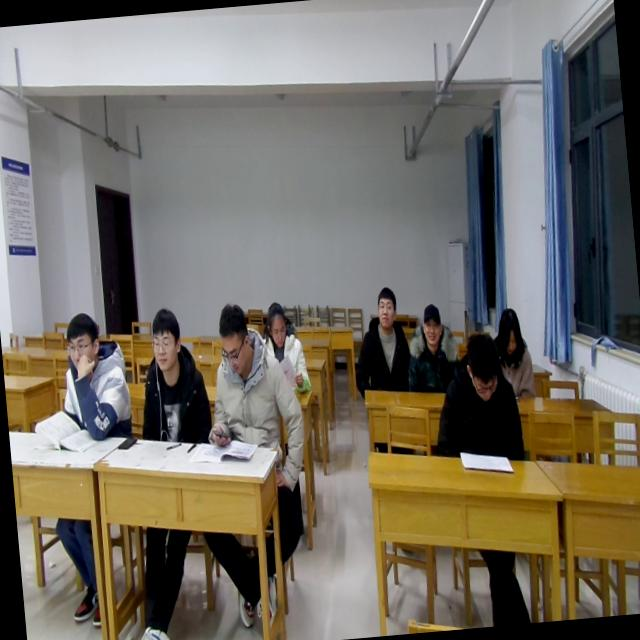down: (456, 326, 508, 406), (212, 296, 255, 376), (493, 304, 528, 362), (260, 294, 290, 354)
lookup: (56, 308, 106, 378), (142, 302, 185, 372), (372, 282, 401, 338), (414, 297, 444, 351)
sit: (196, 293, 306, 454), (427, 331, 525, 464), (128, 304, 214, 448), (52, 306, 137, 442), (346, 282, 413, 398), (399, 298, 464, 402), (254, 298, 312, 400), (488, 305, 535, 401)
